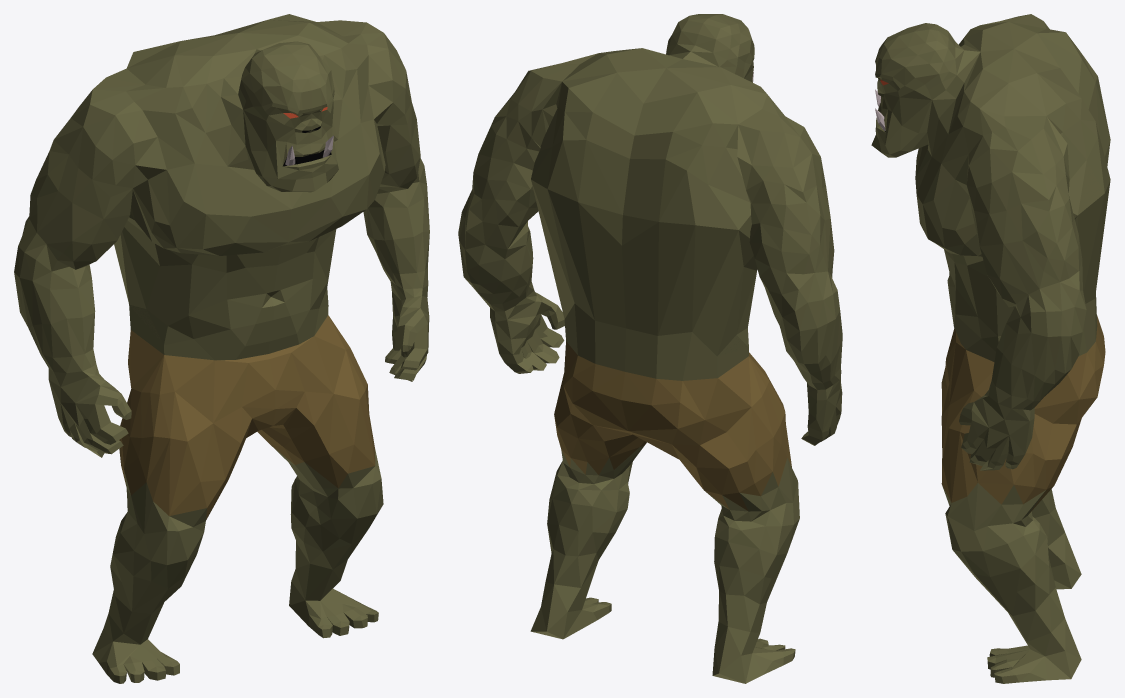
Rendered from Ork.fbx.
The picture shows the model from 3 angles, left to right: view 1: azimuth 30°, elevation 25°; view 2: azimuth 150°, elevation 25°; view 3: azimuth 270°, elevation 25°; orthographic projection. The views are drawn at different scales.
Visible parts, largest first — view 1: Cylinder; view 2: Cylinder; view 3: Cylinder.
Part boxes in pixels (x1,y1,x2,y2): Cylinder: [14, 14, 429, 683]; Cylinder: [458, 14, 842, 683]; Cylinder: [871, 14, 1110, 683].
Bounding box in the file's own units: 193 × 291 × 106.
